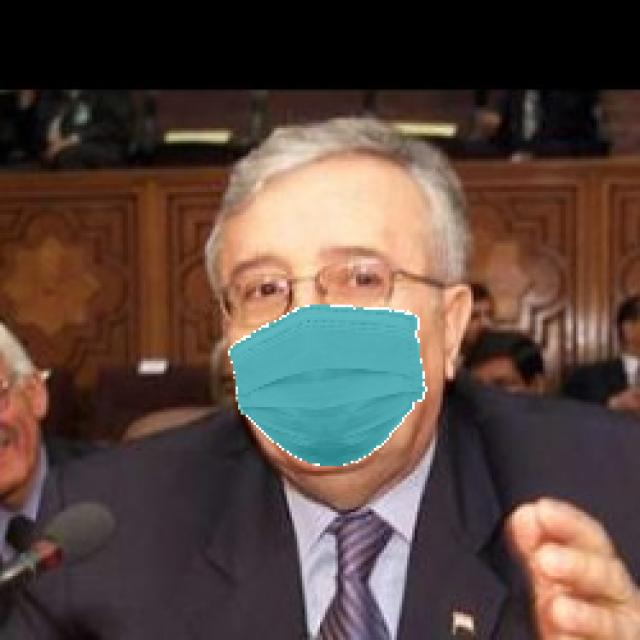mask: (212, 303, 463, 458)
